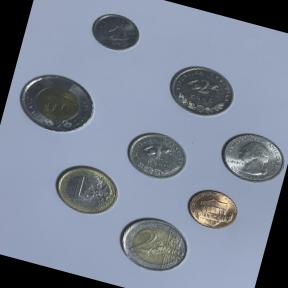1 Euro: (45, 156, 126, 224)
2 Euro: (109, 208, 197, 282)
Canda-10cent-: (84, 5, 148, 60)
Canda-2Dollar-: (9, 62, 106, 145)
Croatia-2Kune-: (158, 54, 243, 128)
US-1cent-: (180, 182, 246, 237)
US-25cent-: (211, 123, 288, 193)
